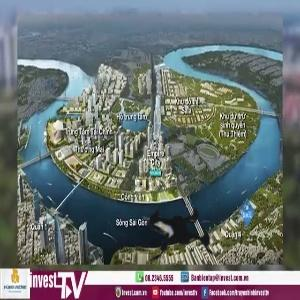drone: (110, 154, 257, 300)
